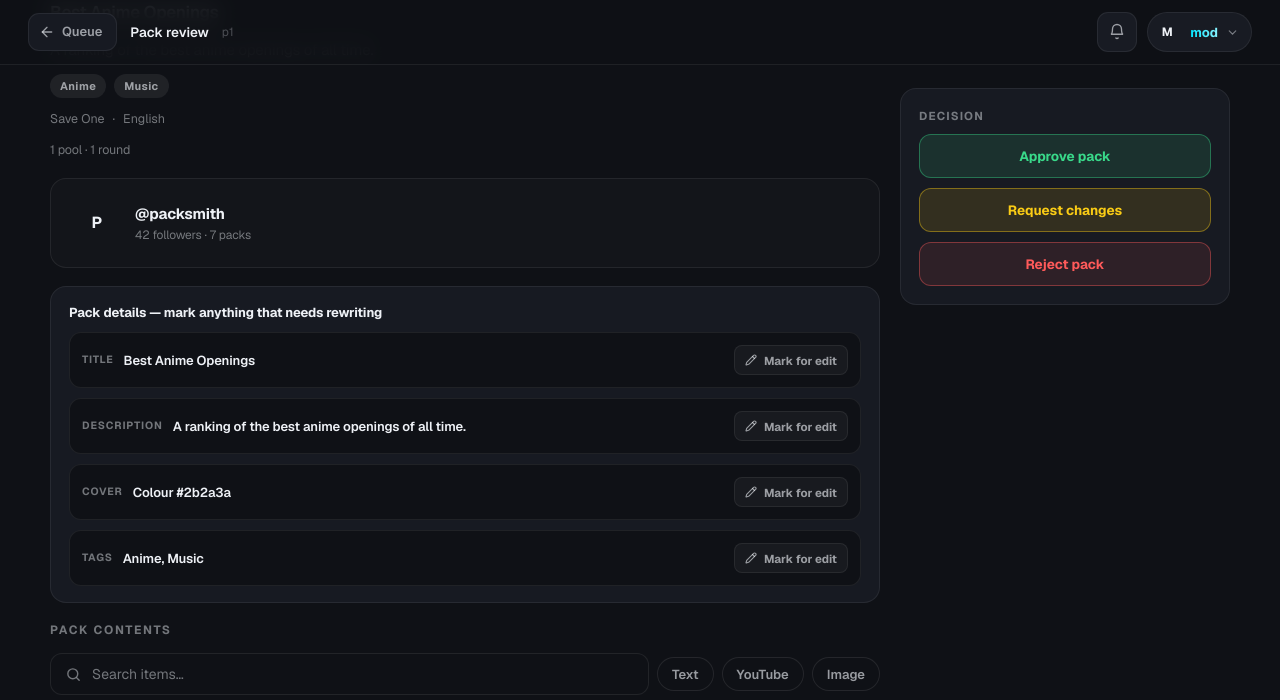
Test: PackReviewScreen › request changes › offers the third outcome, and marks anything in the pack for edit
(page scrolled)
Expected: the button "Request changes" is shown, [919,188,1211,232]
Click the button "Mark for edit" in the row of "Title" at [791, 360], box [734,345,848,375]
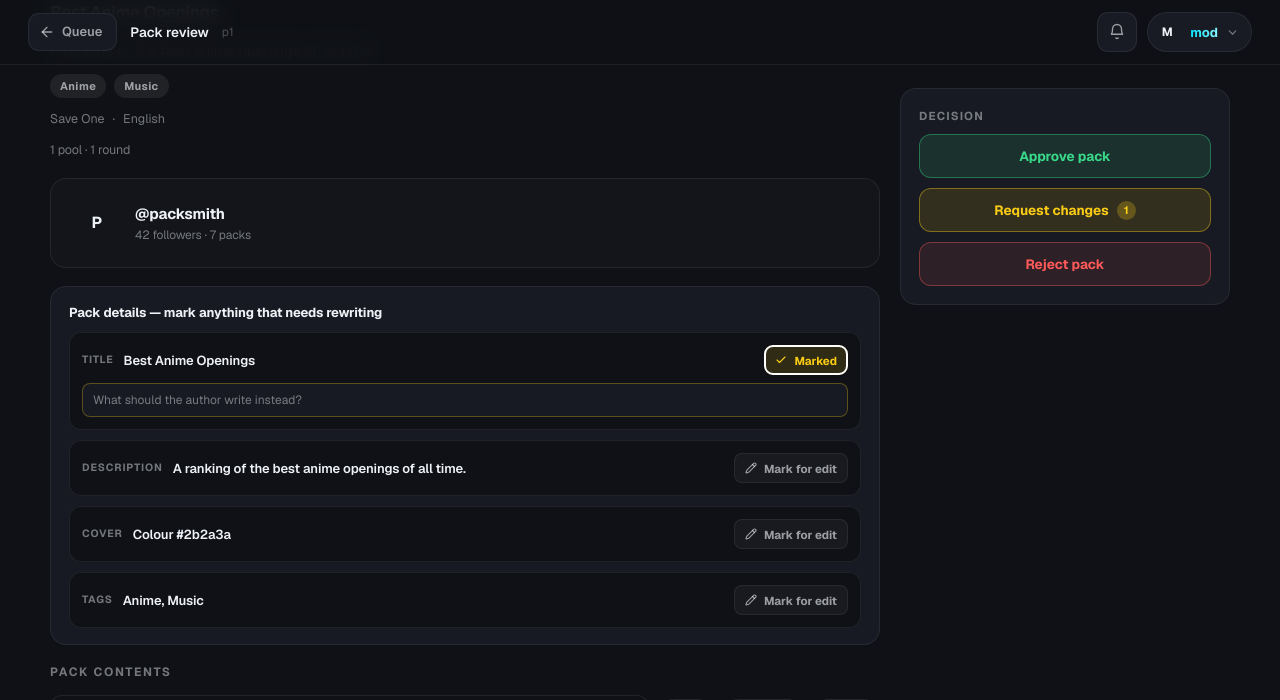
Result: the button "Marked" is shown at [764,345,848,375]
